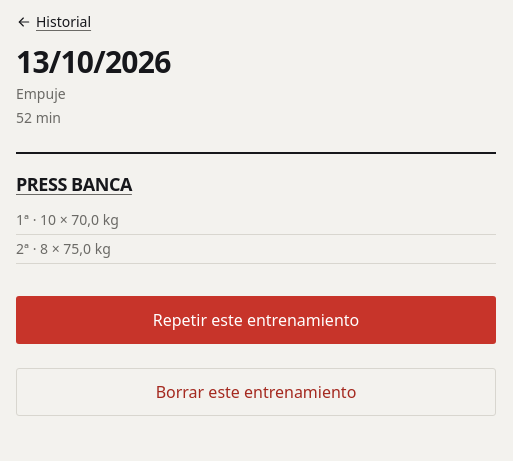
it: WorkoutDetailPage › repeating a workout › asks before replacing a finished workout whose retries ran out
This screenshot has width=513, height=461.
What coordinates should you click on to do the following:
click the button "Repetir este entrenamiento"
I would click on:
 (256, 320)
Its box is x1=16 y1=296 x2=496 y2=344.
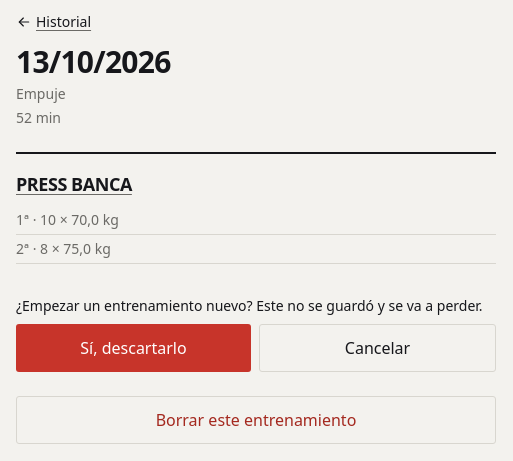
Expected: the text "¿Empezar un entrenamiento nuevo? Este no se guardó y se va a perder." is shown, x1=16 y1=296 x2=496 y2=316
Expected: the button "Sí, descartarlo" is shown, x1=16 y1=324 x2=251 y2=372
Expected: the button "Cancelar" is shown, x1=259 y1=324 x2=496 y2=372
